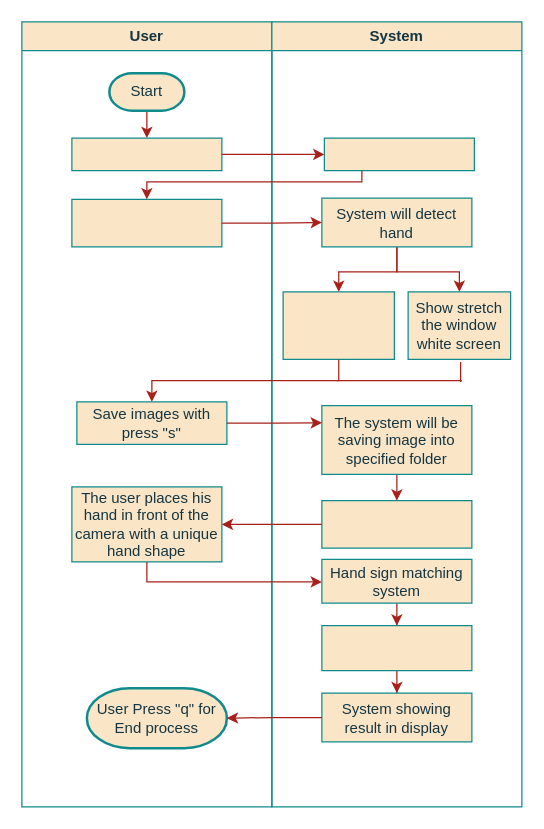
This 544x829 diagram has some shape labels left out. The shapes that lost their labels are listed below. From the top down, each one's centre as x and y in pixels, then its label:
(146,154): After run apps
(398,154): Open The Camera
(146,222): User put the hand in front of camera
(338,325): Show the window Cropping object
(396,523): Train Model of images
(396,647): Hand gesture can be recognize
